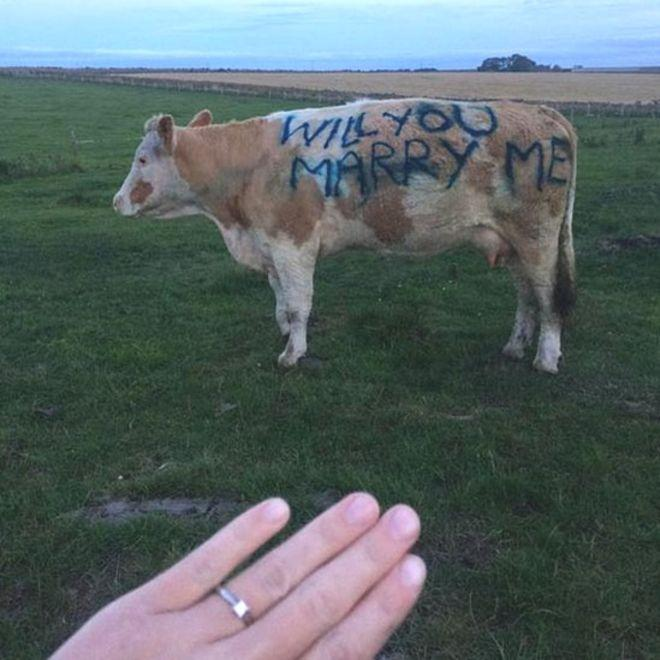cow: (113, 98, 578, 370)
